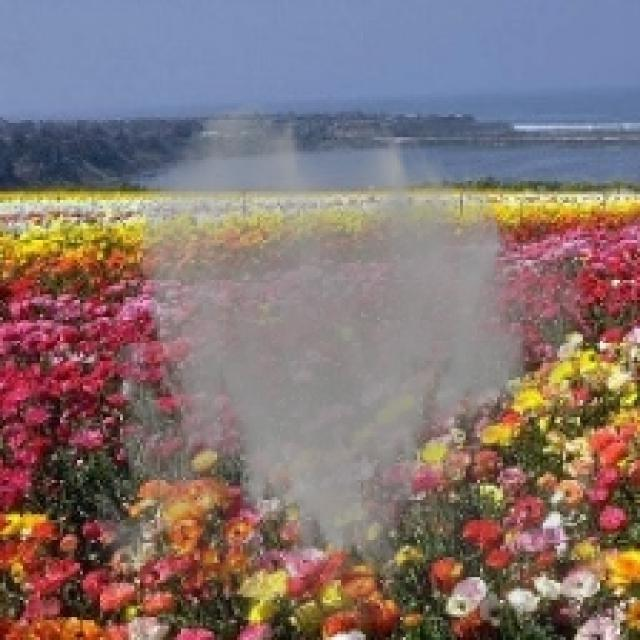smoke: (77, 97, 603, 623)
